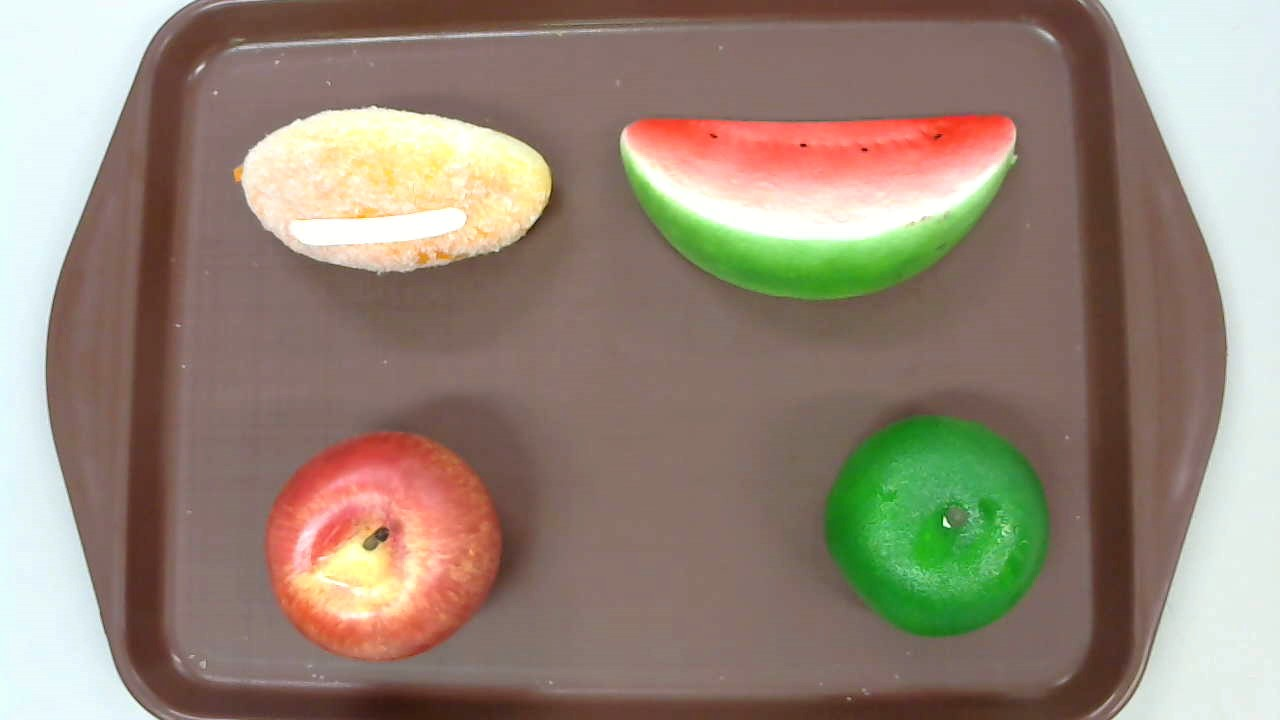coconut: (233, 105, 551, 275)
green orange: (825, 415, 1048, 635)
red apple: (264, 431, 503, 666)
water melon: (619, 113, 1017, 301)
